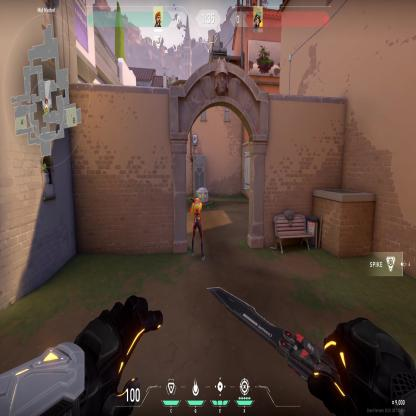enemy: (190, 190, 206, 262)
